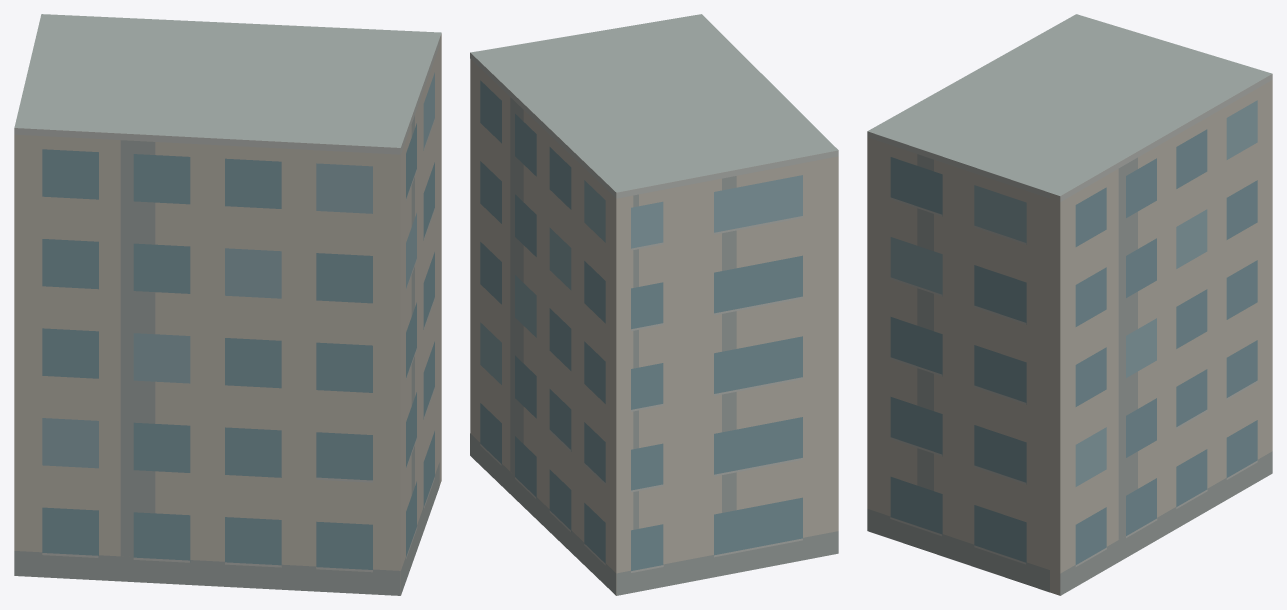
File: survey-upis-32907101.glb
3 views of the same model, side by side, from view 1: azimuth 30°, elevation 25°; view 2: azimuth 150°, elevation 25°; view 3: azimuth 270°, elevation 25° (orthographic). The views are drawn at different scales.
Parts seen in each view (by area): view 1: survey-upis-32907101.tmp; view 2: survey-upis-32907101.tmp; view 3: survey-upis-32907101.tmp.
Boxes of the visible parts, left/top/right/bottom form: survey-upis-32907101.tmp: left=14, top=14, right=441, bottom=595; survey-upis-32907101.tmp: left=470, top=14, right=838, bottom=595; survey-upis-32907101.tmp: left=867, top=14, right=1272, bottom=595.
Bounding box in the file's own units: 16 × 16.36 × 15.04.
